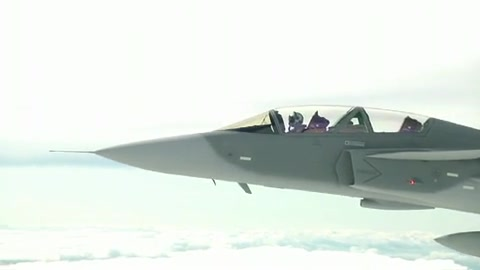aeroplane: (50, 104, 480, 217)
